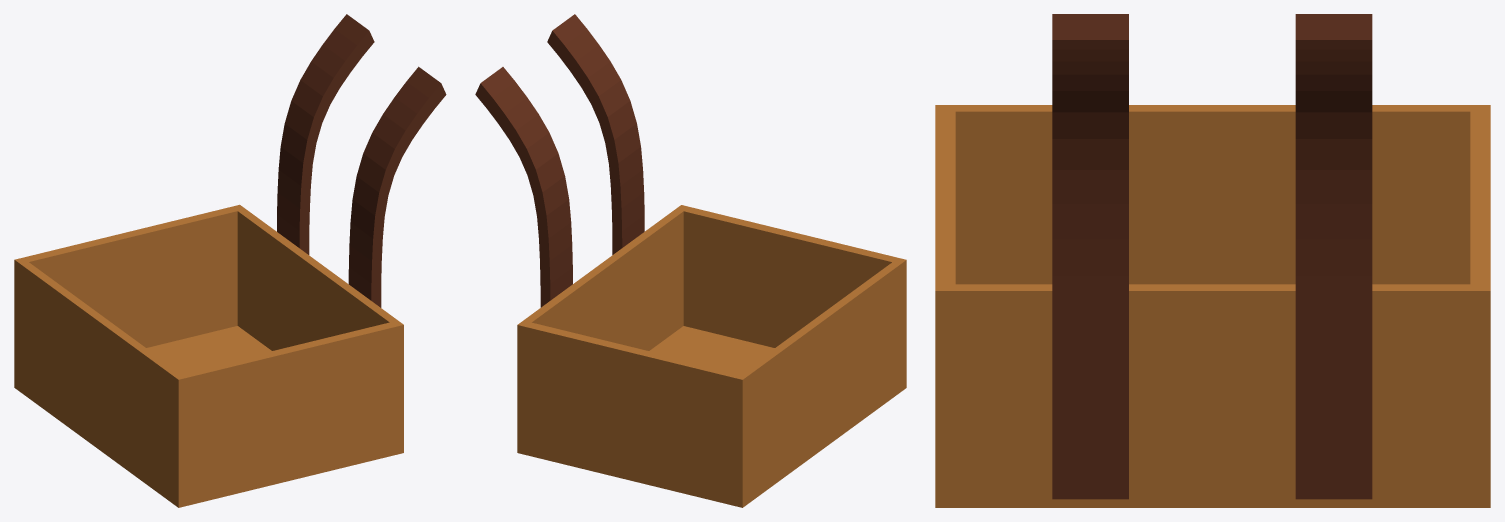
Rendered from basket.fbx.
The picture shows the model from 3 angles, left to right: view 1: azimuth 30°, elevation 25°; view 2: azimuth 150°, elevation 25°; view 3: azimuth 270°, elevation 25°; orthographic projection. The views are drawn at different scales.
Visible parts, largest first — view 1: Plane, Cube, Cube.001; view 2: Plane, Cube, Cube.001; view 3: Plane, Cube.001, Cube.
Boxes of the visible parts, x1,y1,x2,y2 form: Plane: [14, 204, 403, 507]; Cube: [348, 66, 446, 307]; Cube.001: [277, 14, 374, 254]; Plane: [517, 205, 906, 507]; Cube: [547, 14, 644, 254]; Cube.001: [475, 67, 572, 307]; Plane: [935, 105, 1490, 507]; Cube.001: [1295, 14, 1372, 499]; Cube: [1052, 14, 1128, 499].
Bounding box in the file's own units: 185 × 191 × 174.
